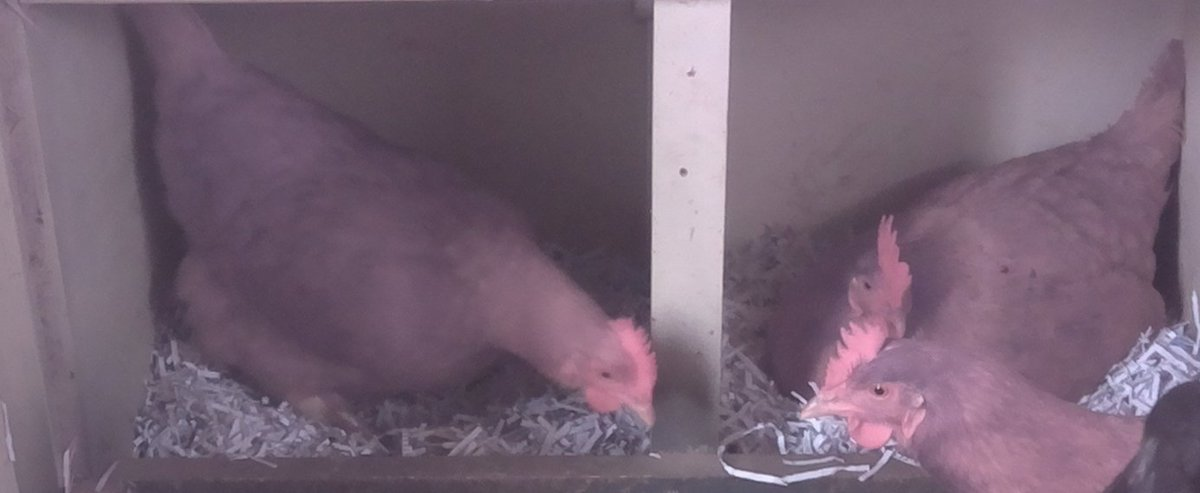egg: (277, 377, 355, 430)
hen: (142, 24, 661, 450), (760, 54, 1185, 424), (791, 316, 1196, 493)
